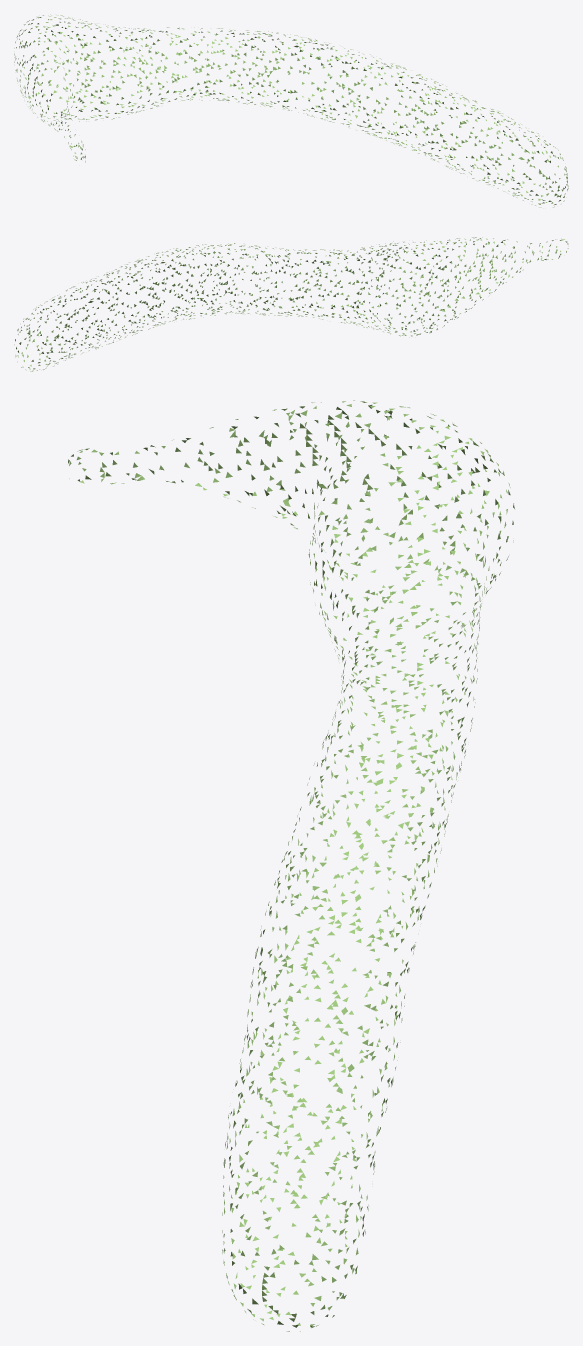
File: morph_013.glb
3 renders of one model, top to bottom at view 1: azimuth 30°, elevation 25°; view 2: azimuth 150°, elevation 25°; view 3: azimuth 270°, elevation 25°, orthographic. The views are drawn at different scales.
Size of the model in its own units: 123 by 59.42 by 48.32.
